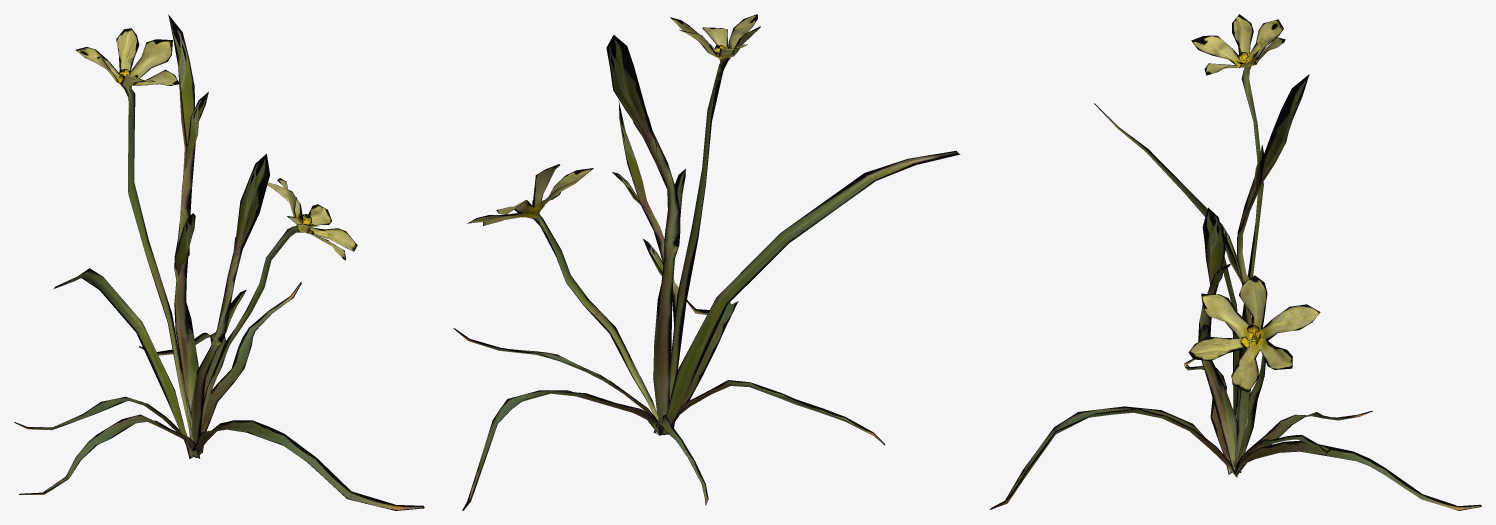
File: flower_empodium_1.gltf
The picture shows the model from 3 angles, left to right: view 1: azimuth 30°, elevation 25°; view 2: azimuth 150°, elevation 25°; view 3: azimuth 270°, elevation 25°; orthographic projection. The views are drawn at different scales.
Parts seen in each view (by area): view 1: flower_empodium_b_LOD0; view 2: flower_empodium_b_LOD0; view 3: flower_empodium_b_LOD0.
Boxes of the visible parts, x1,y1,x2,y2 form: flower_empodium_b_LOD0: (14, 14, 424, 510); flower_empodium_b_LOD0: (453, 14, 960, 510); flower_empodium_b_LOD0: (989, 14, 1481, 510).
Size of the model in its own units: 0.1815 by 0.1905 by 0.2047.
Materials: 1 (1 with a texture image).
